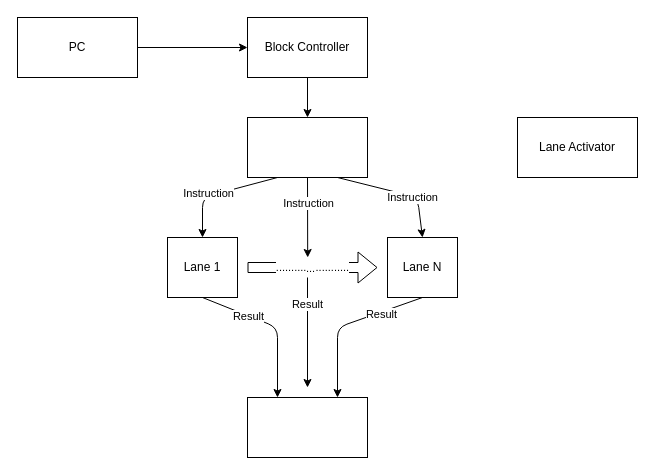
This 655x475 diagram has some shape labels left out. Each missing label, with the centre of its shape:
"Instruction Register" belongs at (307,147).
"LSR" belongs at (307,427).
